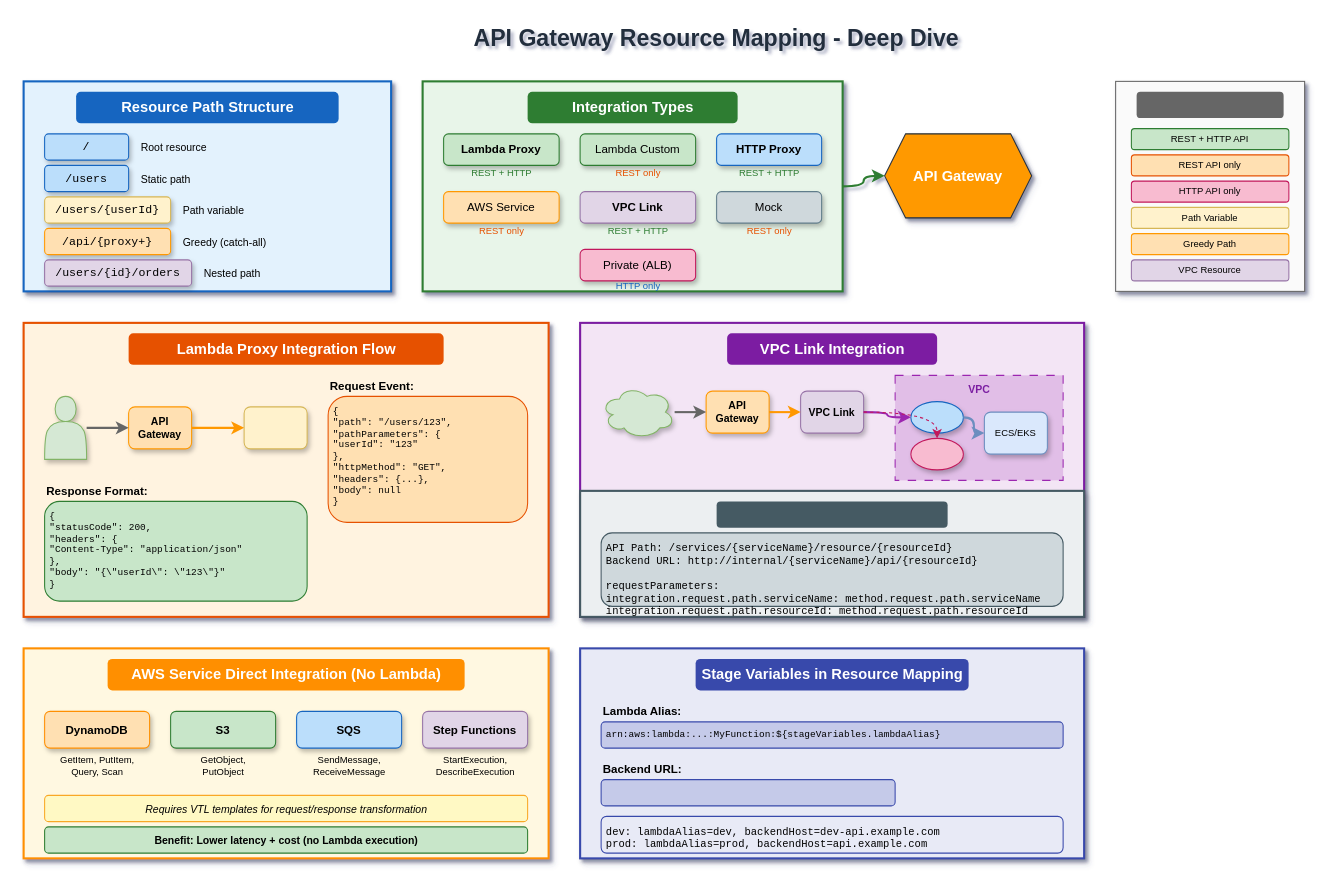
This 1336x890 diagram has some shape labels left out. The centre of each missing label's shape, as x and y in pixels:
"ALB" goes at [938,455].
"Client" goes at [66,429].
"https://${stageVariables.backendHost}/api" goes at [747,792].
"Internet" goes at [638,413].
"Lambda" goes at [276,429].
"Legend" goes at [1209,104].
"NLB" goes at [938,418].
"Path Variable Mapping Example" goes at [831,514].
